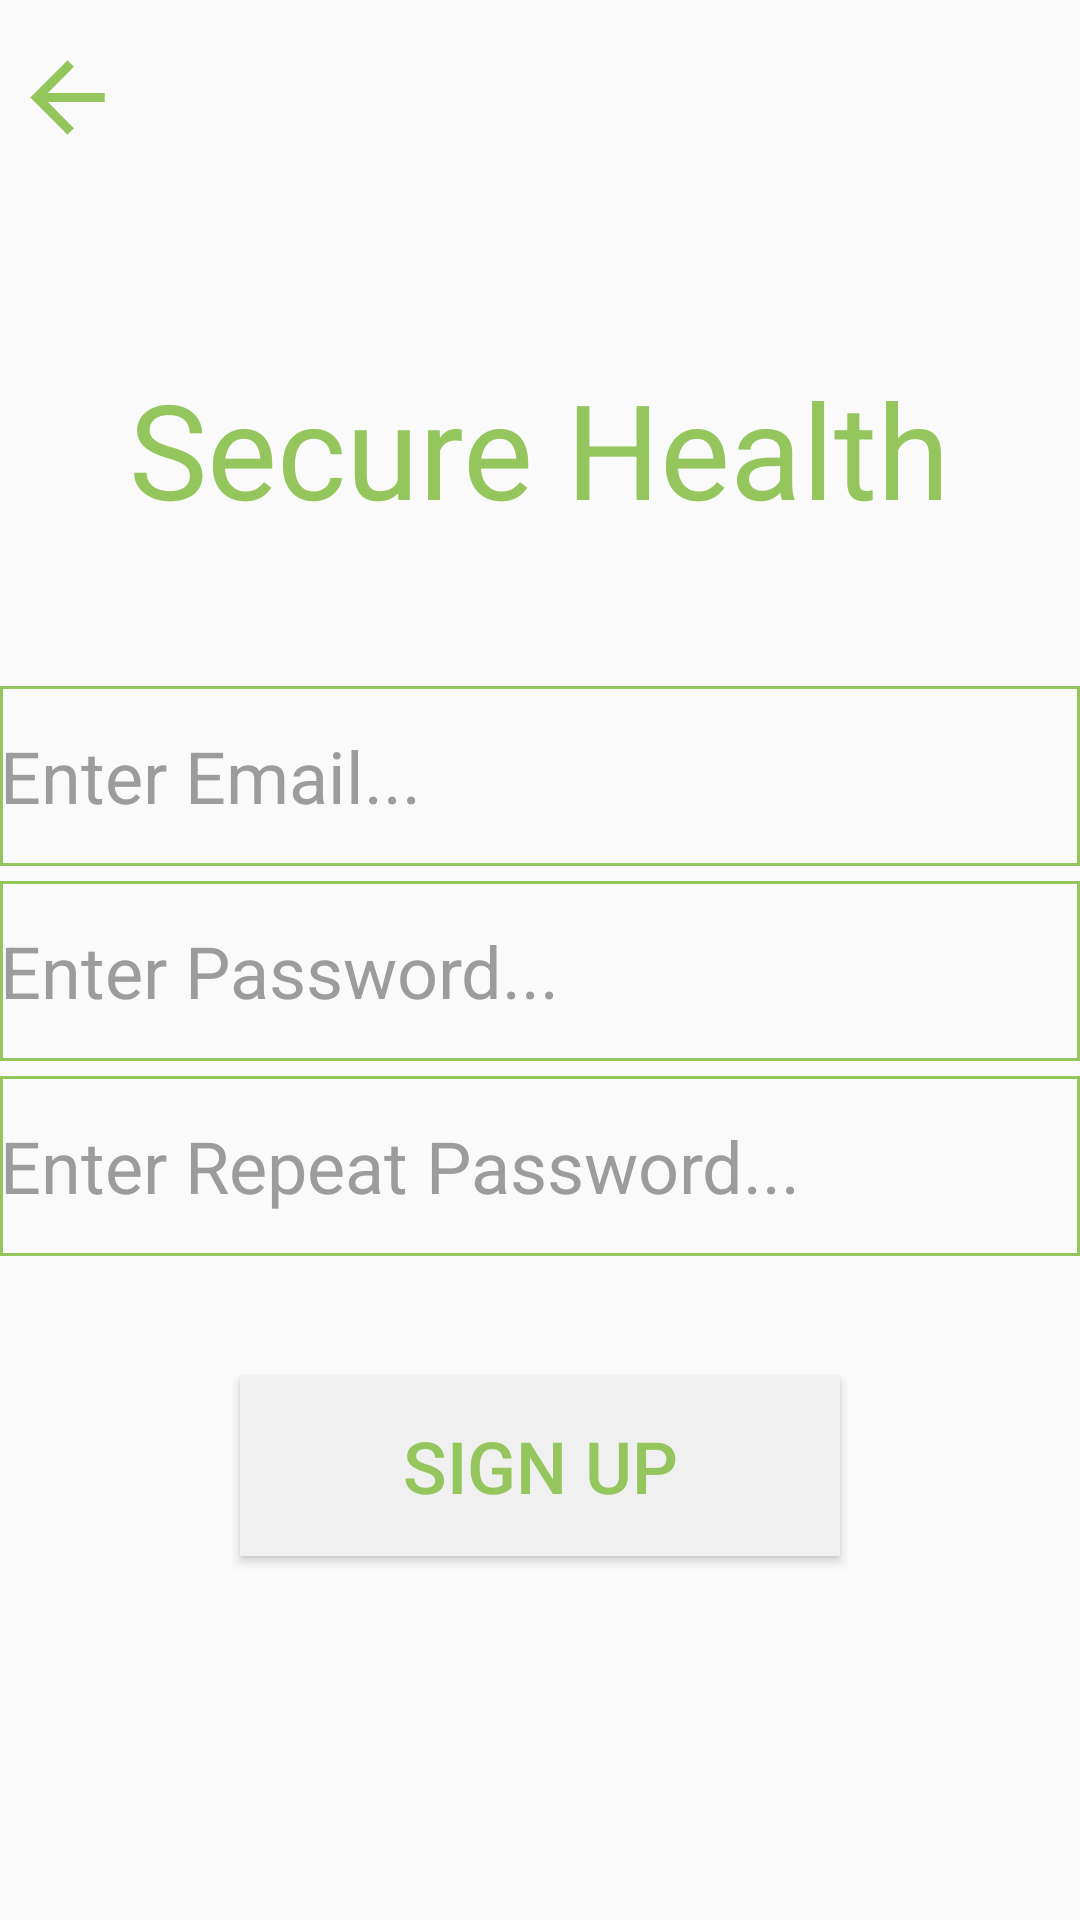

Named icons in this screenshot (1080x1920) and their centers, [x,y]:
back: [67,97]
